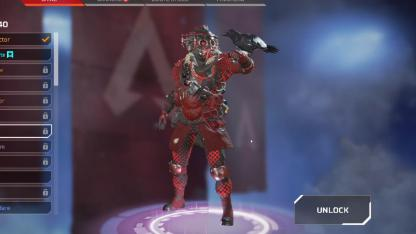Target: (164, 25, 226, 199)
